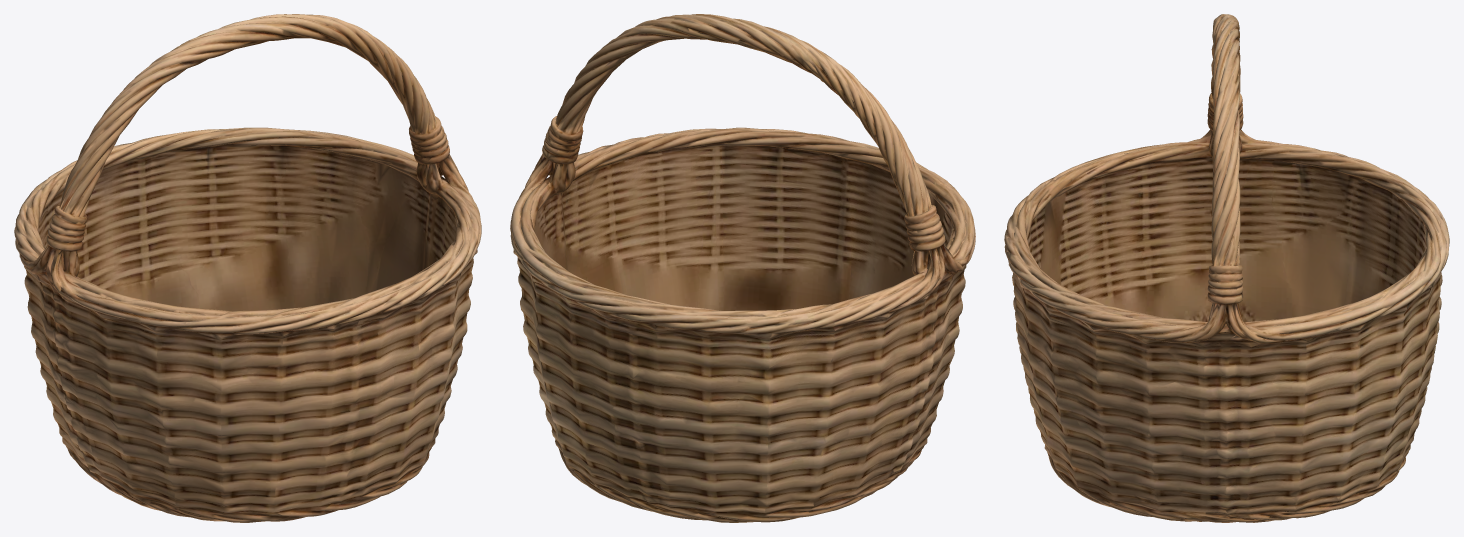
File: fl-wrap-basket-rattan.glb
3 views of the same model, side by side, from view 1: azimuth 30°, elevation 25°; view 2: azimuth 150°, elevation 25°; view 3: azimuth 270°, elevation 25° (orthographic). The views are drawn at different scales.
Visible parts, largest first — view 1: node_0; view 2: node_0; view 3: node_0.
Boxes of the visible parts, x1,y1,x2,y2 form: node_0: (14, 14, 481, 522); node_0: (510, 14, 975, 522); node_0: (1004, 14, 1449, 522).
Size of the model in its own units: 0.9615 by 0.9478 by 0.9225.
1 material, 1 textured.
